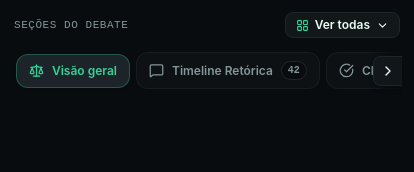
Test: DebateTabsNav › deve alternar entre o modo barra e o modo grade expandido no mobile
Click the button "Ver todas": (342, 25) [285,12,400,38]
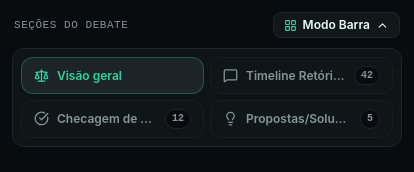
Expected: the button "Modo Barra" is expanded, [273,12,400,38]
Note: Ao clicar em uma aba na grade, deve chamar onTabChange e fechar a grade
Click the tab "Checagem de Fatos 12": (112, 119) [21,100,204,138]
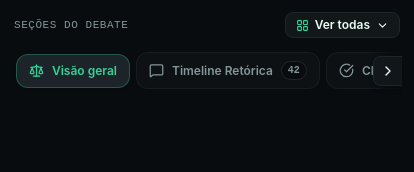
Expected: the button "Ver todas" is collapsed, [285,12,400,38]
